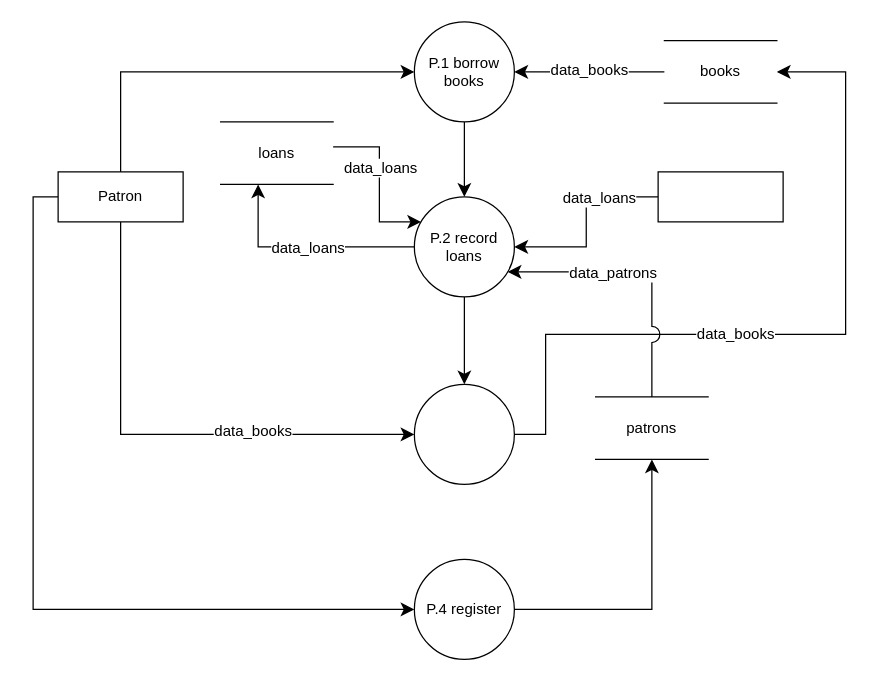
The diagram is 880 pixels wide and 681 high, and some of its shapes have lost their labels. Each missing label, with the centre of its shape:
Admin: (720,196)
P.3 return books: (463,433)
